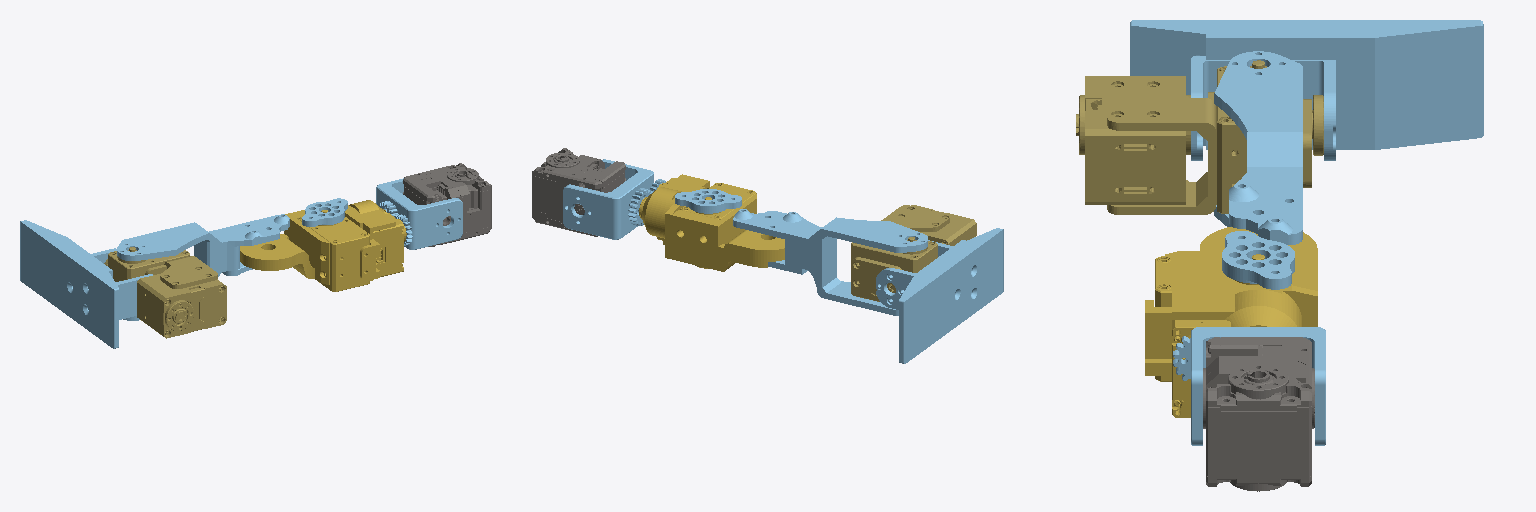
URDF robot description (right_leg_active):
<?xml version="1.0" ?><robot name="right_leg_active">  
  <link name="2xc430">    
    <visual>      
      <origin xyz="0 0 0" rpy="0 -0 0"/>      
      <geometry>        
        <mesh filename="package:///meshes/right_2xc430_visual.stl"/>        
      </geometry>      
      <material name="2xc430_material">        
        <color rgba="0.51698661238356058423 0.5034781595109349972 0.49050589017722023844 1.0"/>        
      </material>      
    </visual>    
    <collision>      
      <origin xyz="0 0 0" rpy="0 -0 0"/>      
      <geometry>        
        <mesh filename="package:///meshes/right_2xc430_collision.stl"/>        
      </geometry>      
    </collision>    
    <inertial>      
      <origin xyz="-0.012000151133958554886 0.00049588831385534155698 0.018504019244502924874" rpy="0 0 0"/>      
      <mass value="0.11059999999836231388"/>      
      <inertia ixx="2.2818802599017771348e-05" ixy="4.6888548258171326458e-08" ixz="4.6520143290256550243e-08" iyy="3.0871666424468414871e-05" iyz="-5.7477343899707253382e-07" izz="3.0871632082338085873e-05"/>      
    </inertial>    
  </link>  

  <link name="hip_yaw_link">    
    <visual>      
      <origin xyz="0 0 0" rpy="0 -0 0"/>      
      <geometry>        
        <mesh filename="package:///meshes/right_hip_yaw_link_visual.stl"/>        
      </geometry>      
      <material name="hip_yaw_link_material">        
        <color rgba="0.61568627450980395466 0.81176470588235294379 0.92941176470588238168 1.0"/>        
      </material>      
    </visual>    
    <collision>      
      <origin xyz="0 0 0" rpy="0 -0 0"/>      
      <geometry>        
        <mesh filename="package:///meshes/right_hip_yaw_link_collision.stl"/>        
      </geometry>      
    </collision>    
    <inertial>      
      <origin xyz="-2.6788828011921134776e-18 -0.015800610849654270207 -0.019005670096647747647" rpy="0 0 0"/>      
      <mass value="0.013199999999999998193"/>      
      <inertia ixx="5.7894615975174148781e-06" ixy="-3.2907588574144865295e-36" ixz="3.2286603810593682228e-35" iyy="5.0110144042848776317e-06" iyz="1.1826010760652090322e-09" izz="2.7344876354814340129e-06"/>      
    </inertial>    
  </link>  

  <link name="spur_gear_21_teeth">    
    <visual>      
      <origin xyz="0 0 0" rpy="0 -0 0"/>      
      <geometry>        
        <mesh filename="package:///meshes/right_spur_gear_21_teeth_visual.stl"/>        
      </geometry>      
      <material name="spur_gear_21_teeth_material">        
        <color rgba="0.61568627450980395466 0.81176470588235294379 0.9294117647058824927 1.0"/>        
      </material>      
    </visual>    
    <collision>      
      <origin xyz="0 0 0" rpy="0 -0 0"/>      
      <geometry>        
        <mesh filename="package:///meshes/right_spur_gear_21_teeth_collision.stl"/>        
      </geometry>      
    </collision>    
    <inertial>      
      <origin xyz="-4.5505288721570929168e-11 -1.6782167131337769527e-11 -0.00249241020062506086" rpy="0 0 0"/>      
      <mass value="0.0022000000000000001325"/>      
      <inertia ixx="7.0162310059594183647e-08" ixy="-5.465644964004223883e-37" ixz="-4.3150666450744828066e-37" iyy="7.0162310058047448545e-08" iyz="-6.9066436847920091074e-38" izz="1.3125544198538289306e-07"/>      
    </inertial>    
  </link>  

  <link name="right_hip_pitch_link">    
    <visual>      
      <origin xyz="0 0 0" rpy="0 -0 0"/>      
      <geometry>        
        <mesh filename="package:///meshes/right_hip_pitch_link_visual.stl"/>        
      </geometry>      
      <material name="right_hip_pitch_link_material">        
        <color rgba="0.81231119922470307326 0.7131158892107314351 0.33680089849959432557 1.0"/>        
      </material>      
    </visual>    
    <collision>      
      <origin xyz="0 0 0" rpy="0 -0 0"/>      
      <geometry>        
        <mesh filename="package:///meshes/right_hip_pitch_link_collision.stl"/>        
      </geometry>      
    </collision>    
    <inertial>      
      <origin xyz="0.010187905578010724925 -0.0056188467228508393383 0.038815928333491442337" rpy="0 0 0"/>      
      <mass value="0.14548965119785958744"/>      
      <inertia ixx="7.0942049594865431734e-05" ixy="1.1158758975156951545e-06" ixz="7.6515558781281230204e-06" iyy="8.5157398802913216959e-05" iyz="1.069933739908978806e-06" izz="4.0945306935231512132e-05"/>      
    </inertial>    
  </link>  

  <link name="spur_gear_18_teeth">    
    <visual>      
      <origin xyz="0 0 0" rpy="0 -0 0"/>      
      <geometry>        
        <mesh filename="package:///meshes/right_spur_gear_18_teeth_visual.stl"/>        
      </geometry>      
      <material name="spur_gear_18_teeth_material">        
        <color rgba="0.61568627450980395466 0.81176470588235294379 0.92941176470588238168 1.0"/>        
      </material>      
    </visual>    
    <collision>      
      <origin xyz="0 0 0" rpy="0 -0 0"/>      
      <geometry>        
        <mesh filename="package:///meshes/right_spur_gear_18_teeth_collision.stl"/>        
      </geometry>      
    </collision>    
    <inertial>      
      <origin xyz="-1.2350962506649162805e-14 -3.7635631785960526885e-13 0.0017500000000010135486" rpy="0 0 0"/>      
      <mass value="0.0011999999999999998949"/>      
      <inertia ixx="2.936789981067607588e-08" ixy="-5.8641944654483215978e-38" ixz="5.3255683241419697728e-37" iyy="2.9367899814783318789e-08" iyz="1.3183913269072010735e-38" izz="5.6306346207859581581e-08"/>      
    </inertial>    
  </link>  

  <joint name="right_hip_yaw_drive" type="fixed">    
    <origin xyz="0.019199999999999432798 0.00020000000000077594597 -3.9572511933982923438e-14" rpy="-3.1415926535897544802 -2.6855722846812135811e-13 4.4780845698253311116e-13"/>    
    <parent link="right_hip_pitch_link"/>    
    <child link="spur_gear_18_teeth"/>    
    <axis xyz="0 0 1"/>    
    <limit effort="1" velocity="20"/>    
    <joint_properties friction="0.0"/>    
  </joint>  

  <link name="right_calf_link">    
    <visual>      
      <origin xyz="0 0 0" rpy="0 -0 0"/>      
      <geometry>        
        <mesh filename="package:///meshes/right_calf_link_visual.stl"/>        
      </geometry>      
      <material name="right_calf_link_material">        
        <color rgba="0.61568627450980395466 0.81176470588235294379 0.9294117647058824927 1.0"/>        
      </material>      
    </visual>    
    <collision>      
      <origin xyz="0 0 0" rpy="0 -0 0"/>      
      <geometry>        
        <mesh filename="package:///meshes/right_calf_link_collision.stl"/>        
      </geometry>      
    </collision>    
    <inertial>      
      <origin xyz="-0.0043450054394401404004 -0.040752982164757478589 0.0087116093514751930665" rpy="0 0 0"/>      
      <mass value="0.030999999999999992839"/>      
      <inertia ixx="3.3069388685436956396e-05" ixy="1.3783307152005442958e-06" ixz="-1.2742534017148757109e-07" iyy="7.7316525337490004191e-06" iyz="7.3356500737986957074e-08" izz="2.8031377754211954129e-05"/>      
    </inertial>    
  </link>  

  <link name="right_ank_pitch_link">    
    <visual>      
      <origin xyz="0 0 0" rpy="0 -0 0"/>      
      <geometry>        
        <mesh filename="package:///meshes/right_ank_pitch_link_visual.stl"/>        
      </geometry>      
      <material name="right_ank_pitch_link_material">        
        <color rgba="0.70321688500203349825 0.64514870846184446673 0.40484735422826273465 1.0"/>        
      </material>      
    </visual>    
    <collision>      
      <origin xyz="0 0 0" rpy="0 -0 0"/>      
      <geometry>        
        <mesh filename="package:///meshes/right_ank_pitch_link_collision.stl"/>        
      </geometry>      
    </collision>    
    <inertial>      
      <origin xyz="-0.017770241889542310459 0.012301334508572216164 0.01881451483117359616" rpy="0 0 0"/>      
      <mass value="0.17676376695067907985"/>      
      <inertia ixx="4.7283381546856800164e-05" ixy="1.3380598207240686326e-06" ixz="6.1532628607401809872e-07" iyy="0.0001070646253591693727" iyz="-5.1080086246267761071e-08" izz="0.00012185522398303509975"/>      
    </inertial>    
  </link>  

  <link name="ank_roll_link">    
    <visual>      
      <origin xyz="0 0 0" rpy="0 -0 0"/>      
      <geometry>        
        <mesh filename="package:///meshes/right_ank_roll_link_visual.stl"/>        
      </geometry>      
      <material name="ank_roll_link_material">        
        <color rgba="0.61568627450980384364 0.81176470588235283277 0.92941176470588227065 1.0"/>        
      </material>      
    </visual>    
    <collision>      
      <origin xyz="0 0 0" rpy="0 -0 0"/>      
      <geometry>        
        <mesh filename="package:///meshes/right_ank_roll_link_collision.stl"/>        
      </geometry>      
    </collision>    
    <inertial>      
      <origin xyz="-0.027003066516822167575 -2.0057342087013497268e-12 0.033764011359896504982" rpy="0 0 0"/>      
      <mass value="0.042600000000000012856"/>      
      <inertia ixx="3.7284397827465385158e-05" ixy="-5.5176062605007464403e-16" ixz="2.3929183768081720827e-06" iyy="3.7589276943350449865e-05" iyz="5.0934855123661378758e-12" izz="1.0090430906787055469e-05"/>      
    </inertial>    
  </link>  

  <joint name="right_ank_roll" type="revolute">    
    <origin xyz="-0.022749999999988373273 -3.4694469519536141888e-15 0.018999999999998528483" rpy="1.5707963267948563679 4.4661392888324146284e-14 1.5707963267948163999"/>    
    <parent link="right_ank_pitch_link"/>    
    <child link="ank_roll_link"/>    
    <axis xyz="0 0 1"/>    
    <limit effort="1" velocity="20" lower="-1.570796326794896558" upper="1.570796326794896558"/>    
    <joint_properties friction="0.0"/>    
  </joint>  

  <joint name="right_ank_pitch" type="revolute">    
    <origin xyz="6.9083739455885604039e-17 -0.099999999999999783507 0.027750000000000336897" rpy="-3.1415926535897922278 3.2932936145431924967e-16 -3.1415926535897926719"/>    
    <parent link="right_calf_link"/>    
    <child link="right_ank_pitch_link"/>    
    <axis xyz="0 0 1"/>    
    <limit effort="1" velocity="20" lower="-0.785398163397448279" upper="1.7453292519943295336"/>    
    <joint_properties friction="0.0"/>    
  </joint>  

  <joint name="right_knee" type="revolute">    
    <origin xyz="1.7043830104226903577e-16 -0.0087500000000000823647 0.085950000000000290057" rpy="-1.5707963267948725772 -3.7746952287072025739e-15 7.7294107906842257648e-15"/>    
    <parent link="right_hip_pitch_link"/>    
    <child link="right_calf_link"/>    
    <axis xyz="0 0 1"/>    
    <limit effort="1" velocity="20" lower="0" upper="2.0943951023931952626"/>    
    <joint_properties friction="0.0"/>    
  </joint>  

  <link name="xm430_plate">    
    <visual>      
      <origin xyz="0 0 0" rpy="0 -0 0"/>      
      <geometry>        
        <mesh filename="package:///meshes/right_xm430_plate_visual.stl"/>        
      </geometry>      
      <material name="xm430_plate_material">        
        <color rgba="0.61568627450980395466 0.81176470588235294379 0.9294117647058824927 1.0"/>        
      </material>      
    </visual>    
    <collision>      
      <origin xyz="0 0 0" rpy="0 -0 0"/>      
      <geometry>        
        <mesh filename="package:///meshes/right_xm430_plate_collision.stl"/>        
      </geometry>      
    </collision>    
    <inertial>      
      <origin xyz="-9.7261306791801168226e-19 -2.962568063940001858e-18 0.0025278513919583817798" rpy="0 0 0"/>      
      <mass value="0.0026999999999999992756"/>      
      <inertia ixx="2.4635091298412528789e-07" ixy="5.8739562556303533743e-08" ixz="0" iyy="1.2887178787151816747e-07" iyz="0" izz="3.646799841381030595e-07"/>      
    </inertial>    
  </link>  

  <joint name="right_knee_act" type="fixed">    
    <origin xyz="2.3125237723569996997e-17 0.012450000000000006201 0.044500000000000719536" rpy="-1.5707963267948588104 -2.7749270113798249644e-16 -4.1021040023487373087e-15"/>    
    <parent link="right_hip_pitch_link"/>    
    <child link="xm430_plate"/>    
    <axis xyz="0 0 1"/>    
    <limit effort="1" velocity="20"/>    
    <joint_properties friction="0.0"/>    
  </joint>  

  <joint name="right_hip_yaw" type="revolute">    
    <origin xyz="-5.2457909251798218506e-18 -3.4694469519536141888e-18 -0.0050000000000000113798" rpy="3.1415926535897922278 -1.4272087055159576395e-14 -3.6758798213763643757e-30"/>    
    <parent link="spur_gear_21_teeth"/>    
    <child link="right_hip_pitch_link"/>    
    <axis xyz="0 0 1"/>    
    <limit effort="1" velocity="20" lower="-1.570796326794896558" upper="1.570796326794896558"/>    
    <joint_properties friction="0.0"/>    
  </joint>  

  <joint name="right_hip_yaw_fixed" type="fixed">    
    <origin xyz="6.9388939039072283776e-18 -0.027999999999999997113 -0.019000000000000002998" rpy="-1.5707963267948990005 1.5707963267948785724 0"/>    
    <parent link="hip_yaw_link"/>    
    <child link="spur_gear_21_teeth"/>    
    <axis xyz="0 0 1"/>    
    <limit effort="1" velocity="20"/>    
    <joint_properties friction="0.0"/>    
  </joint>  

  <joint name="right_hip_roll" type="revolute">    
    <origin xyz="-0.024000000716143506108 0.019000000152447637375 0.019000000152446804708" rpy="-1.5707963267948252817 -1.5707963267948190644 0"/>    
    <parent link="2xc430"/>    
    <child link="hip_yaw_link"/>    
    <axis xyz="0 0 1"/>    
    <limit effort="1" velocity="20" lower="-0.785398163397448279" upper="0.785398163397448279"/>    
    <joint_properties friction="0.0"/>    
  </joint>  


</robot>

--- Facts derived from the render (not from the file) ---
The picture shows the robot from 3 angles, left to right: view 1: azimuth 30°, elevation 25°; view 2: azimuth 150°, elevation 25°; view 3: azimuth 270°, elevation 25°; orthographic projection.
Model right_leg_active with 9 links and 8 joints (5 revolute, 3 fixed), rooted at 2xc430, posed every joint at zero.
Visible links, largest first — view 1: right_hip_pitch_link, ank_roll_link, right_ank_pitch_link, right_calf_link, 2xc430, hip_yaw_link, xm430_plate; view 2: ank_roll_link, right_hip_pitch_link, right_calf_link, right_ank_pitch_link, 2xc430, hip_yaw_link, xm430_plate; view 3: ank_roll_link, right_ank_pitch_link, 2xc430, right_hip_pitch_link, right_calf_link, hip_yaw_link, xm430_plate, spur_gear_18_teeth.
Boxes of the visible links, box(x1,y1,x2,y2) form: right_hip_pitch_link: box(240, 200, 406, 291); ank_roll_link: box(20, 220, 152, 348); right_ank_pitch_link: box(104, 247, 226, 338); right_calf_link: box(117, 214, 289, 320); 2xc430: box(403, 163, 491, 246); hip_yaw_link: box(376, 178, 462, 249); xm430_plate: box(302, 198, 347, 226); ank_roll_link: box(876, 228, 1003, 363); right_hip_pitch_link: box(639, 174, 784, 271); right_calf_link: box(733, 209, 927, 315); right_ank_pitch_link: box(851, 205, 976, 301); 2xc430: box(532, 148, 625, 236); hip_yaw_link: box(563, 159, 653, 239); xm430_plate: box(675, 189, 741, 213); ank_roll_link: box(1130, 20, 1483, 160); right_ank_pitch_link: box(1076, 60, 1323, 214); 2xc430: box(1203, 337, 1314, 491); right_hip_pitch_link: box(1145, 227, 1317, 417); right_calf_link: box(1214, 51, 1302, 244); hip_yaw_link: box(1191, 327, 1325, 445); xm430_plate: box(1222, 231, 1294, 289); spur_gear_18_teeth: box(1173, 336, 1190, 380).
Size in the robot's own frame: 0.2932 by 0.138 by 0.0489 metres.
9 mesh visuals loaded from 9 distinct referenced files (9 binary STL).
